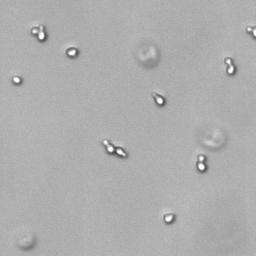budding: (100, 136, 132, 161), (29, 23, 51, 43), (148, 90, 171, 109), (223, 54, 236, 80), (194, 153, 208, 173)
individual: (63, 44, 81, 61), (162, 210, 177, 226), (9, 74, 25, 85)
